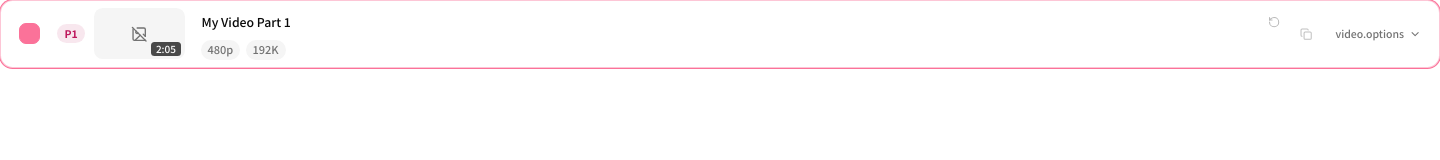
Scenario: VideoPartCard › copies the part URL to the clipboard with a success toast
The width and height of the screenshot is (1440, 160).
Step 1. Click the button named "video.copy_part_url" → (1306,34), box [1293,22,1318,46]
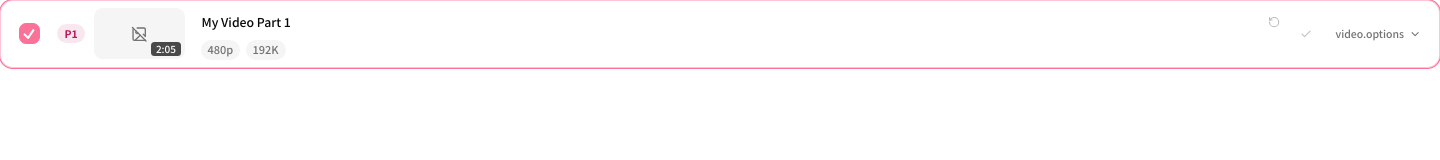
Now the icon with class "lucide-check" is shown, box [1300,28,1312,40]
